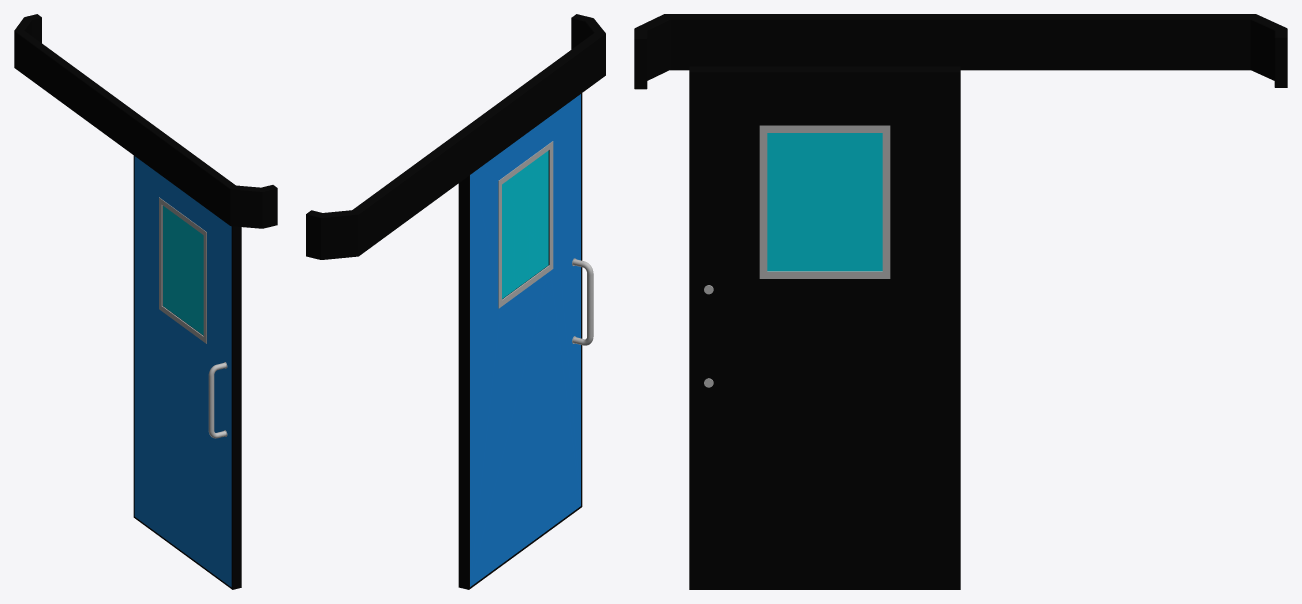
File: sliding_doors.fbx
3 views of the same model, side by side, from view 1: azimuth 30°, elevation 25°; view 2: azimuth 150°, elevation 25°; view 3: azimuth 270°, elevation 25° (orthographic). The views are drawn at different scales.
Parts seen in each view (by area): view 1: Sliding door; view 2: Sliding door; view 3: Sliding door.
Boxes of the visible parts, x1,y1,x2,y2 form: Sliding door: (14, 14, 277, 589); Sliding door: (306, 14, 605, 589); Sliding door: (634, 14, 1287, 589).
Bounding box in the file's own units: 2569 × 24100 × 25384.
